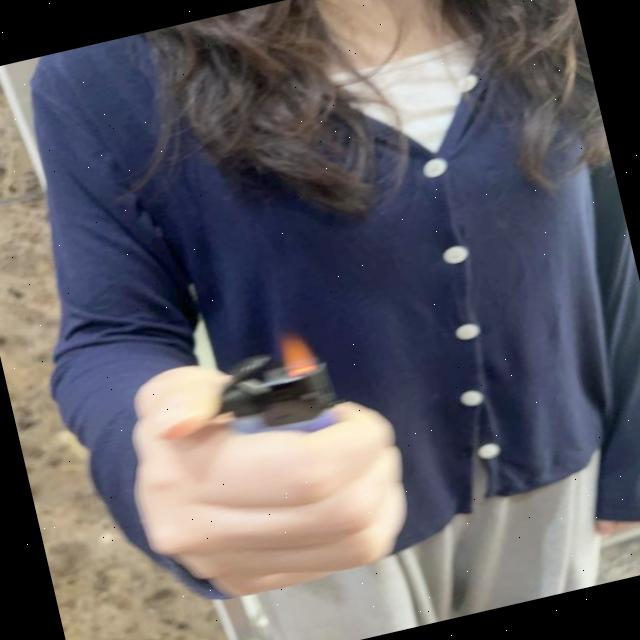fire: (275, 328, 323, 378)
